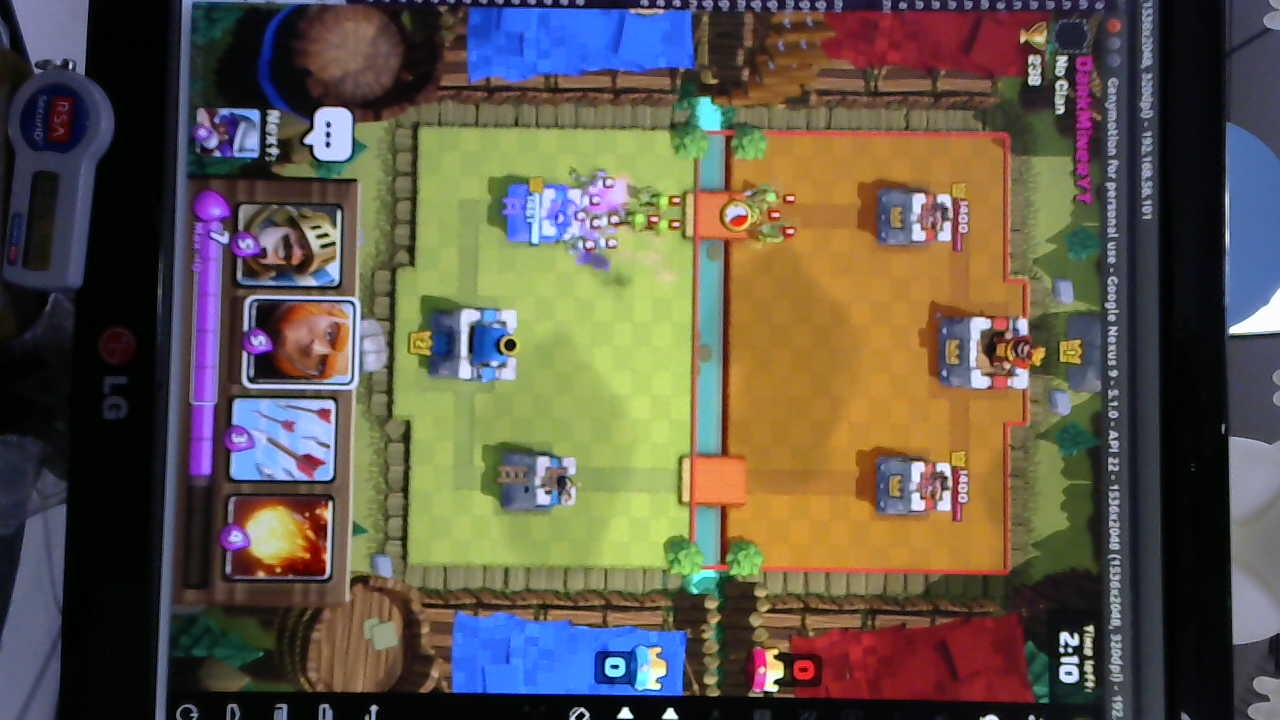speargoblinsE: (717, 178, 793, 249)
